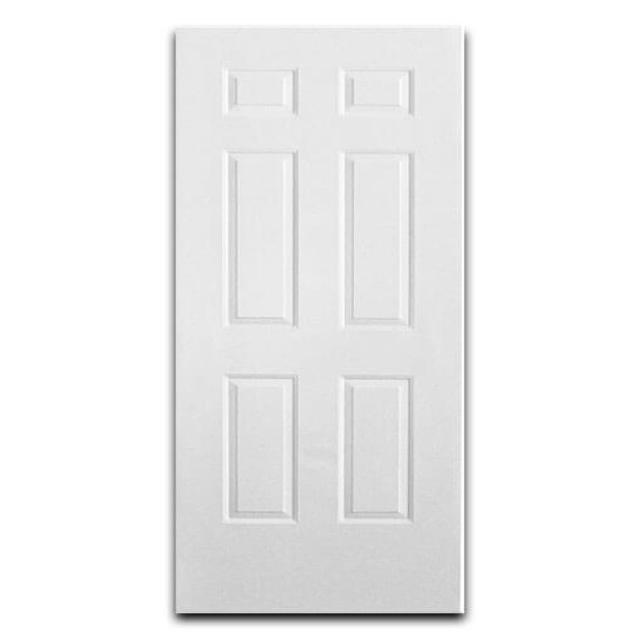door: (172, 25, 467, 616)
